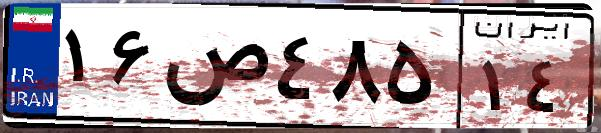1: (57, 26, 110, 100), (475, 38, 525, 113)
4: (270, 28, 330, 110), (525, 38, 570, 115)
5: (385, 28, 445, 110)
6: (110, 28, 158, 98)
8: (330, 28, 385, 110)
ص: (158, 20, 270, 120)
